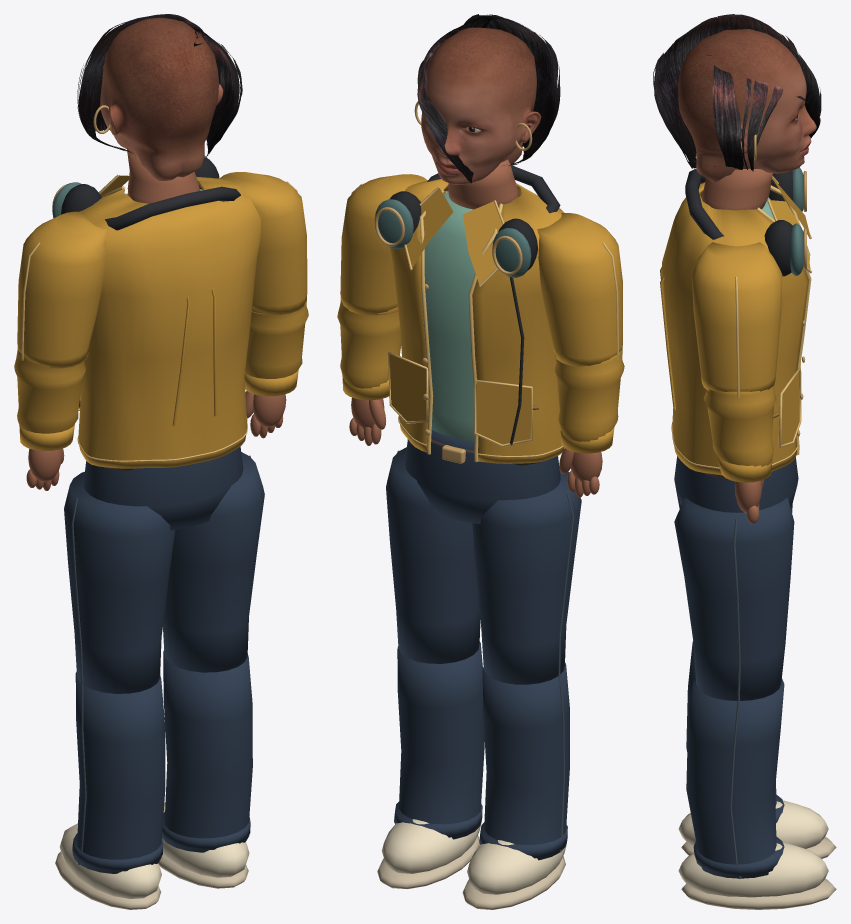
File: mara.glb
The picture shows the model from 3 angles, left to right: view 1: azimuth 30°, elevation 25°; view 2: azimuth 150°, elevation 25°; view 3: azimuth 270°, elevation 25°; orthographic projection. The views are drawn at different scales.
Parts seen in each view (by area): view 1: mara_torso_surface, mara_head_surface, mara_knee_L_surface, mara_knee_R_surface, mara_leg_L_surface, mara_leg_R_surface, mara_arm_L_surface, mara_arm_R_surface, mara_elbow_L_surface, mara_elbow_R_surface; view 2: mara_torso_surface, mara_knee_L_surface, mara_knee_R_surface, mara_head_surface, mara_leg_L_surface, mara_leg_R_surface, mara_arm_L_surface, mara_elbow_L_surface, mara_arm_R_surface, mara_elbow_R_surface; view 3: mara_torso_surface, mara_knee_R_surface, mara_head_surface, mara_leg_R_surface, mara_arm_R_surface, mara_elbow_R_surface, mara_knee_L_surface.
Boxes of the visible parts, left/top/right/bottom form: mara_torso_surface: left=52, top=148, right=260, bottom=530; mara_head_surface: left=77, top=14, right=242, bottom=180; mara_knee_L_surface: left=55, top=672, right=165, bottom=909; mara_knee_R_surface: left=158, top=650, right=252, bottom=888; mara_leg_L_surface: left=64, top=471, right=175, bottom=693; mara_leg_R_surface: left=163, top=452, right=264, bottom=672; mara_arm_L_surface: left=17, top=211, right=106, bottom=368; mara_arm_R_surface: left=220, top=172, right=307, bottom=315; mara_elbow_L_surface: left=14, top=348, right=88, bottom=490; mara_elbow_R_surface: left=244, top=299, right=308, bottom=438; mara_torso_surface: left=374, top=159, right=564, bottom=523; mara_knee_L_surface: left=462, top=662, right=569, bottom=909; mara_knee_R_surface: left=377, top=641, right=484, bottom=888; mara_head_surface: left=414, top=14, right=560, bottom=184; mara_leg_L_surface: left=472, top=471, right=581, bottom=684; mara_leg_R_surface: left=386, top=447, right=480, bottom=663; mara_arm_L_surface: left=537, top=213, right=622, bottom=366; mara_elbow_L_surface: left=553, top=348, right=624, bottom=497; mara_arm_R_surface: left=340, top=174, right=427, bottom=315; mara_elbow_R_surface: left=337, top=299, right=401, bottom=445; mara_torso_surface: left=660, top=167, right=811, bottom=512; mara_knee_R_surface: left=678, top=678, right=836, bottom=909; mara_head_surface: left=653, top=14, right=821, bottom=182; mara_leg_R_surface: left=674, top=497, right=794, bottom=710; mara_arm_R_surface: left=691, top=242, right=782, bottom=397; mara_elbow_R_surface: left=703, top=383, right=776, bottom=523; mara_knee_L_surface: left=678, top=641, right=836, bottom=858.
Size of the model in its own units: 0.618 by 1.81 by 0.3512.
21 materials, 3 textured.
